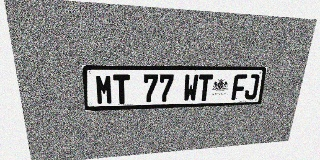7: (142, 74, 158, 103), (158, 74, 174, 103)
F: (231, 74, 247, 100)
J: (244, 74, 260, 100)
M: (95, 74, 113, 105)
T: (113, 74, 130, 104), (197, 74, 213, 101)
W: (183, 74, 199, 102)
